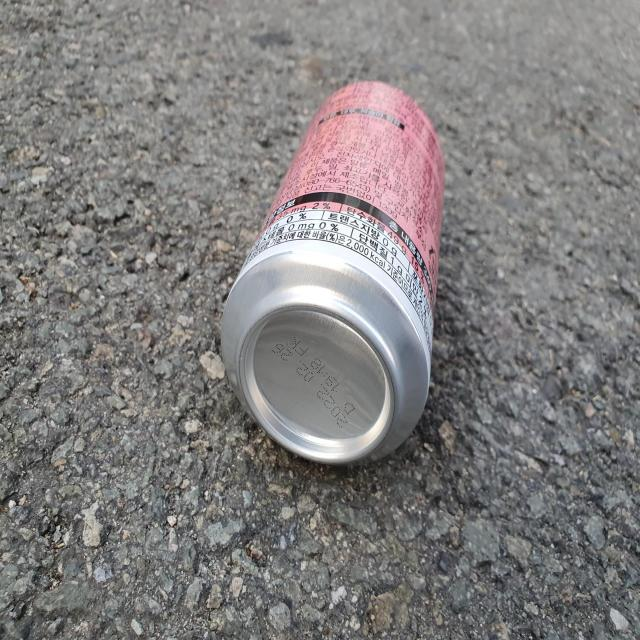can: (221, 81, 445, 464)
